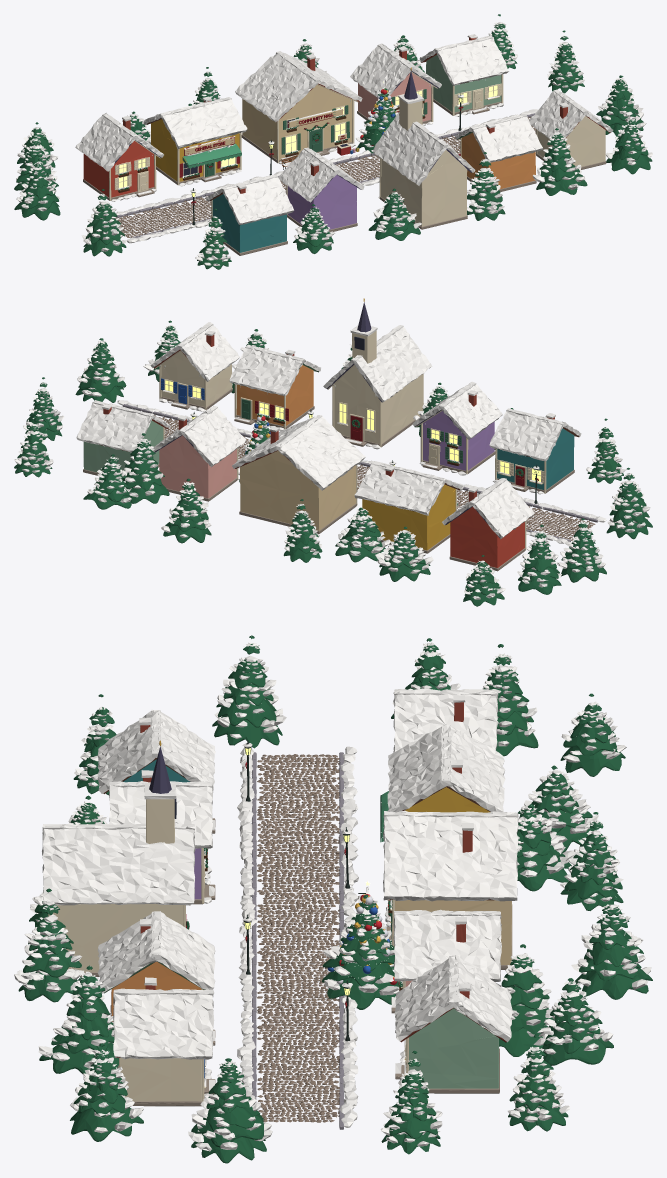
File: maple.glb
3 views of the same model, one above another, from view 1: azimuth 30°, elevation 25°; view 2: azimuth 150°, elevation 25°; view 3: azimuth 270°, elevation 25° (orthographic). The views are drawn at different scales.
Visible parts, largest first — view 1: Snow, Needles_0.102, Church_wall, Hall_wall, Cobble, CreamWood, HomeE_wall, HomeD_wall, Footing, HomeF_wall, HomeC_wall, HomeG_wall (+9 smaller); view 2: Snow, Needles_0.102, Hall_wall, Church_wall, CreamWood, HomeA_wall, Store_wall, HomeC_wall, Footing, HomeF_wall, HomeD_wall, HomeE_wall (+6 smaller); view 3: Snow, Needles_0.102, Cobble, HomeB_wall, Church_wall, HomeG_wall, Curb, Hall_wall, Footing, HomeF_wall, Store_wall, Brick (+1 smaller).
Part boxes in pixels (x1,y1,x2,y2): Snow: (16,22,652,265); Needles_0.102: (14,14,652,269); Church_wall: (381,98,467,226); Hall_wall: (242,84,352,159); Cobble: (115,117,535,237); CreamWood: (109,71,537,227); HomeE_wall: (287,175,356,229); HomeD_wall: (212,194,286,252); Footing: (83,99,606,255); HomeF_wall: (461,132,535,189); HomeC_wall: (83,141,154,197); HomeG_wall: (537,116,605,166); Snow: (14,322,650,599); Needles_0.102: (14,320,652,606); Hall_wall: (240,450,355,530); Church_wall: (334,330,423,443); CreamWood: (154,350,546,549); HomeA_wall: (159,435,236,498); Store_wall: (362,484,455,550); HomeC_wall: (450,507,524,567); Footing: (83,388,574,571); HomeF_wall: (236,365,313,426); HomeD_wall: (497,428,574,489); HomeE_wall: (423,411,494,470); Snow: (14,636,651,1151); Needles_0.102: (18,635,652,1163); Cobble: (257,754,344,1122); HomeB_wall: (409,1008,498,1088); Church_wall: (48,799,183,971); HomeG_wall: (119,1058,201,1101); Curb: (251,752,343,1129); Hall_wall: (395,900,511,964); Footing: (80,818,512,1106); HomeF_wall: (111,962,201,1021); Store_wall: (405,787,490,812); Brick: (140,702,472,998).
Size of the model in its own units: 59.5 by 13.73 by 35.33.
